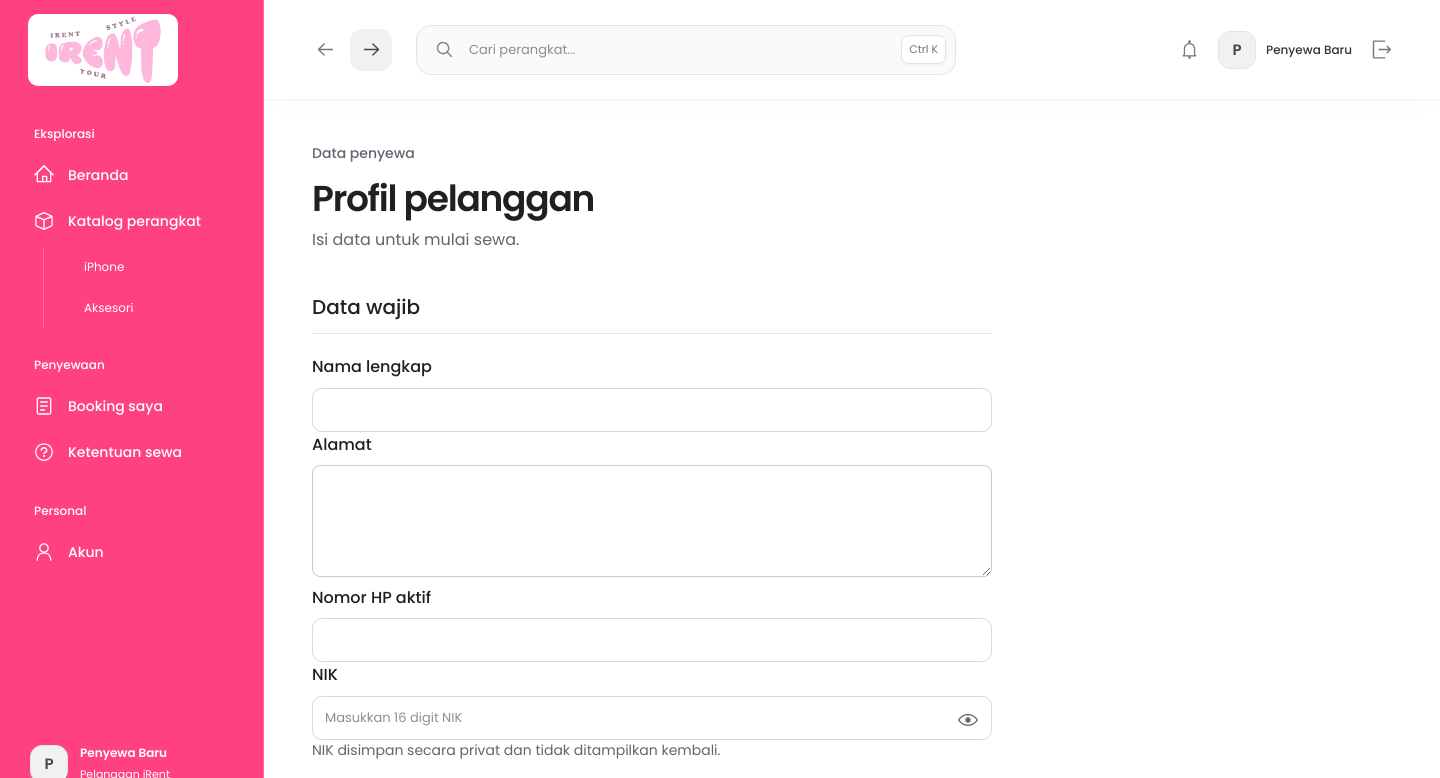
Scenario: completes the profile without exposing the stored NIK after saving
Type "Penyewa Lengkap" into the field labelled "Nama lengkap" at (652, 410), box [312,388,992,432]
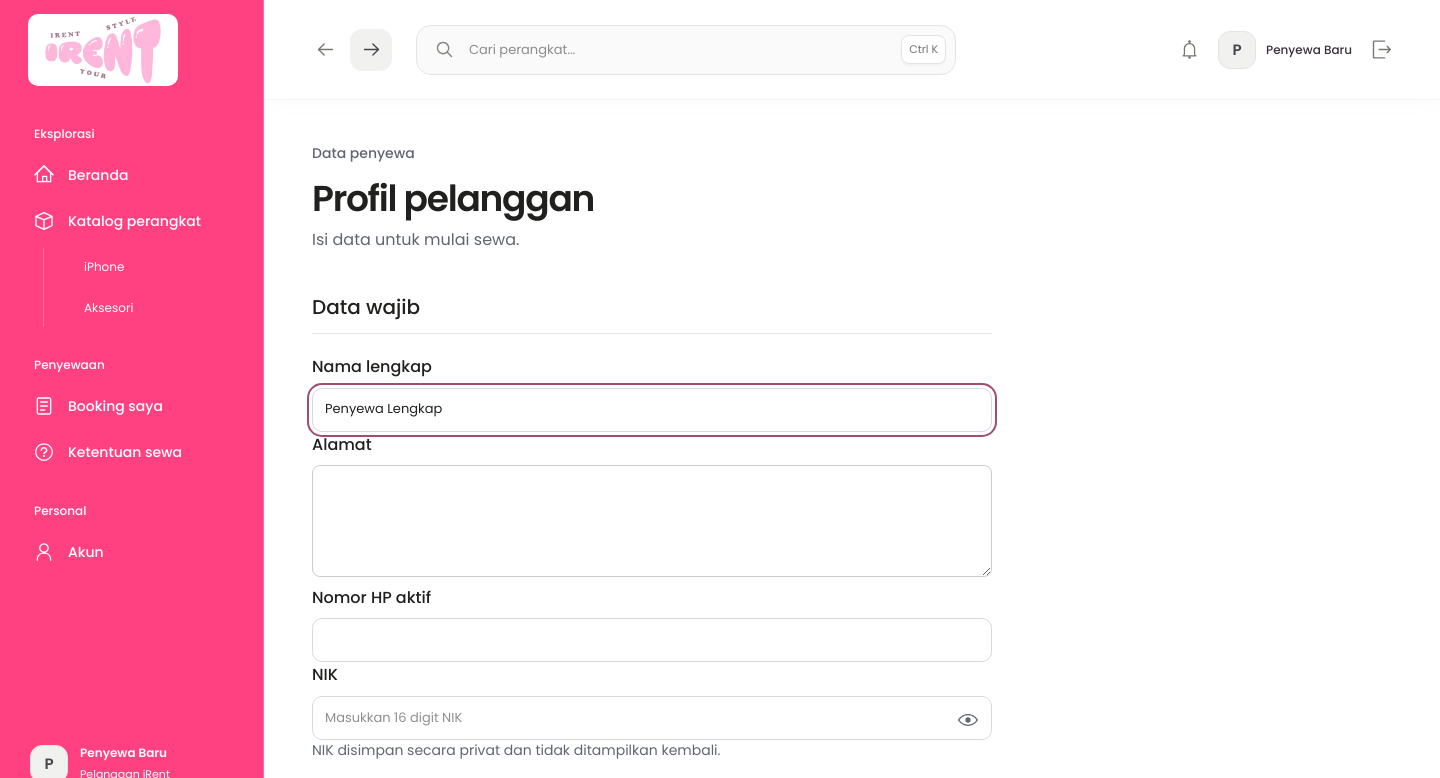
Type "Alamat uji Semarang" into the text box labelled "Alamat" at (652, 521), box [312,465,992,577]
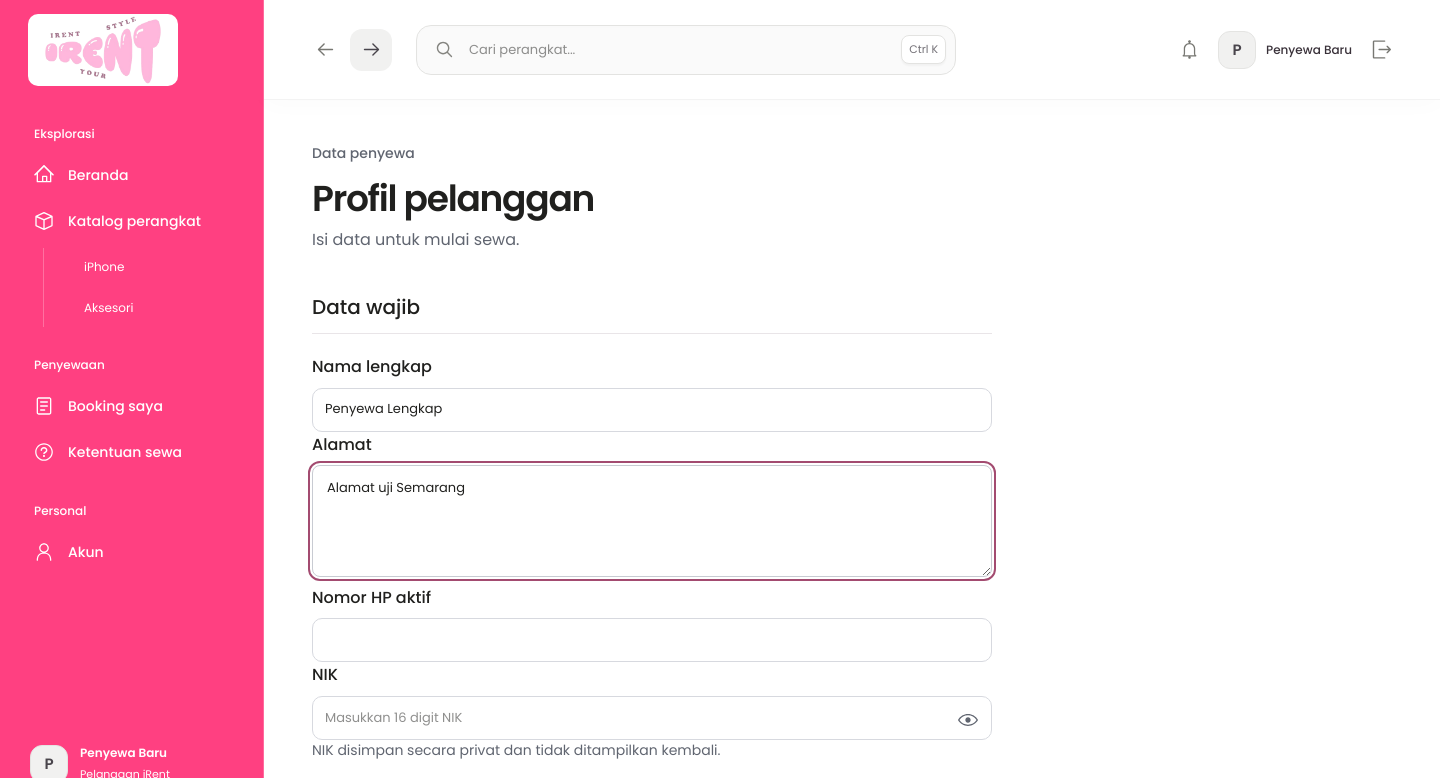
Type "081234567890" into the field labelled "Nomor HP aktif" at (652, 640), box [312,618,992,662]
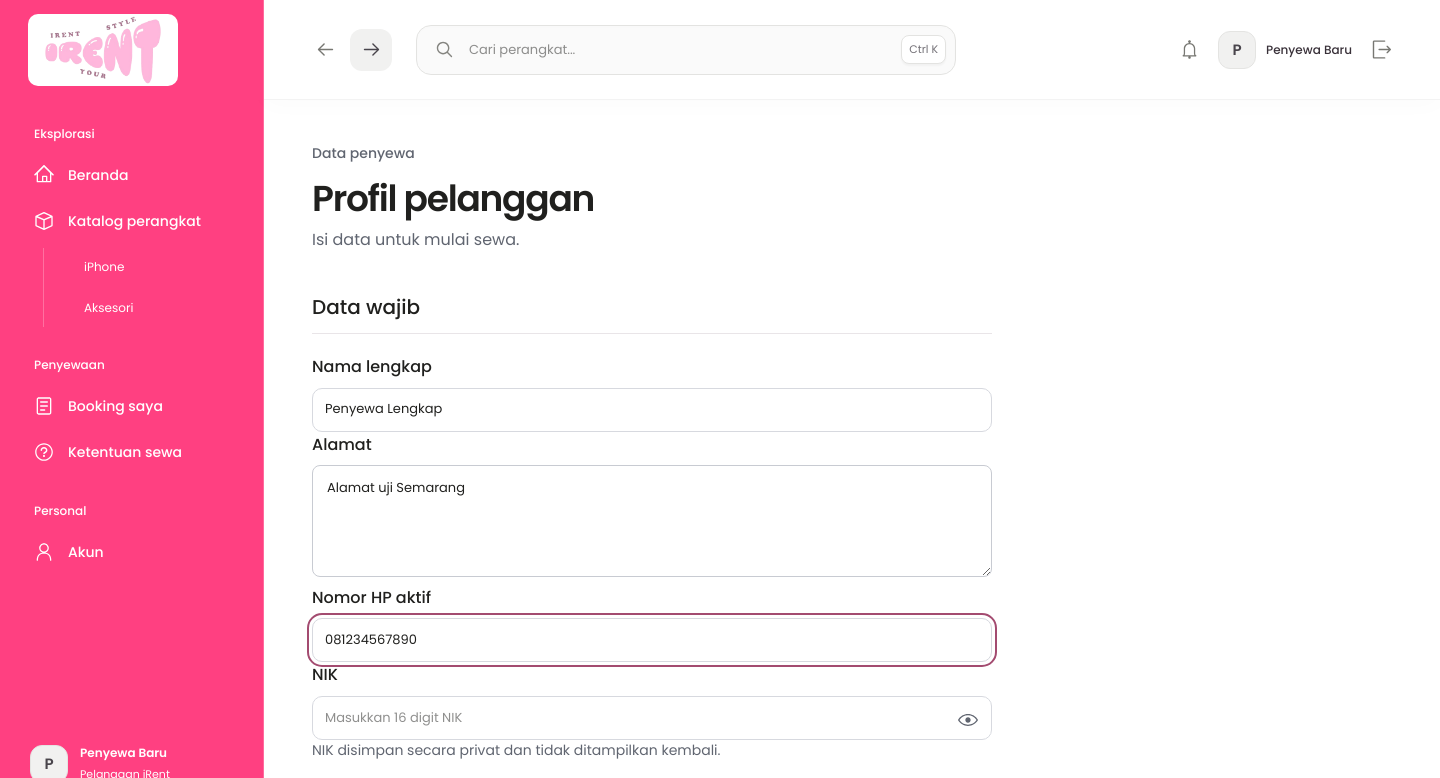
Type "0000000000000001" into the password field labelled "NIK" at (652, 718), box [312,696,992,740]
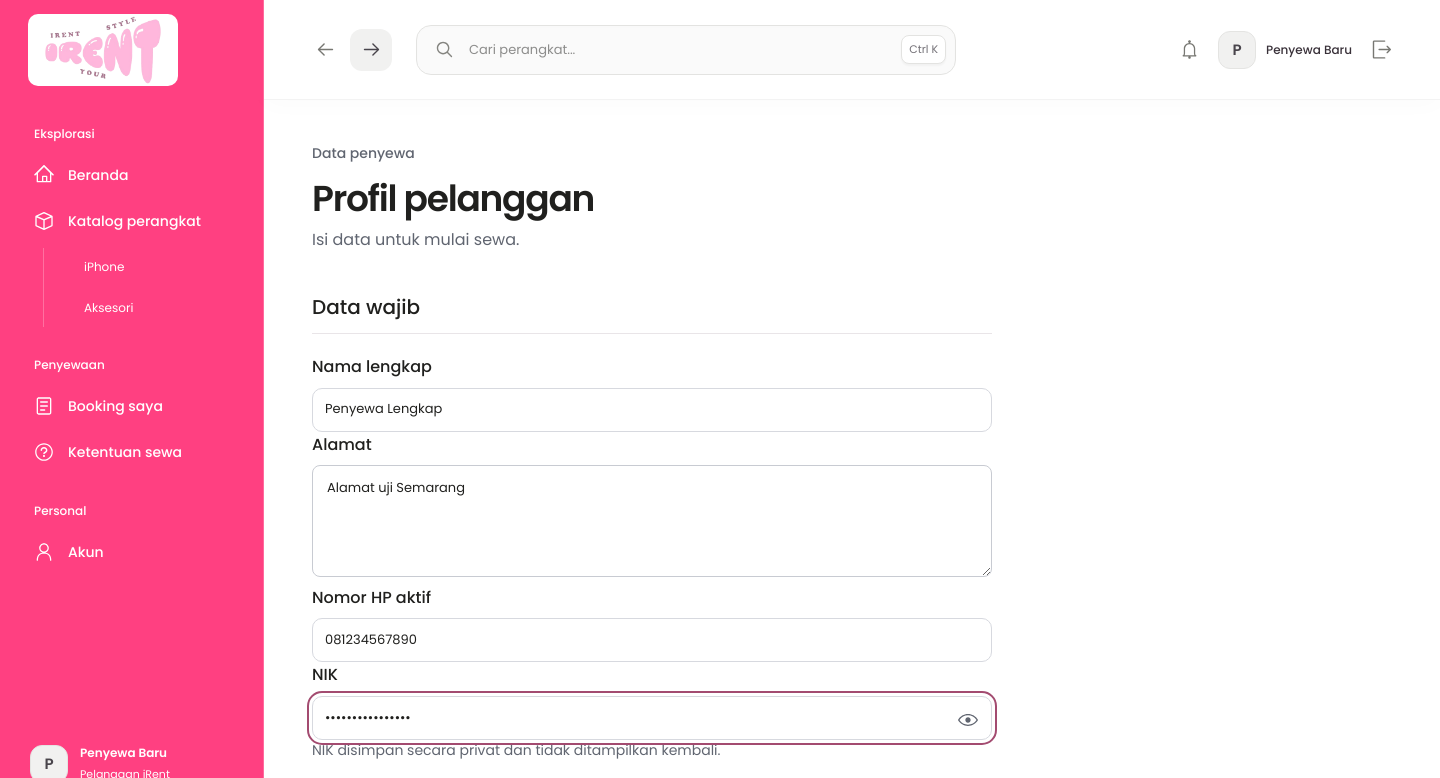
Click the button named "Tampilkan NIK" at (968, 720), box [946,698,990,742]
(page scrolled)
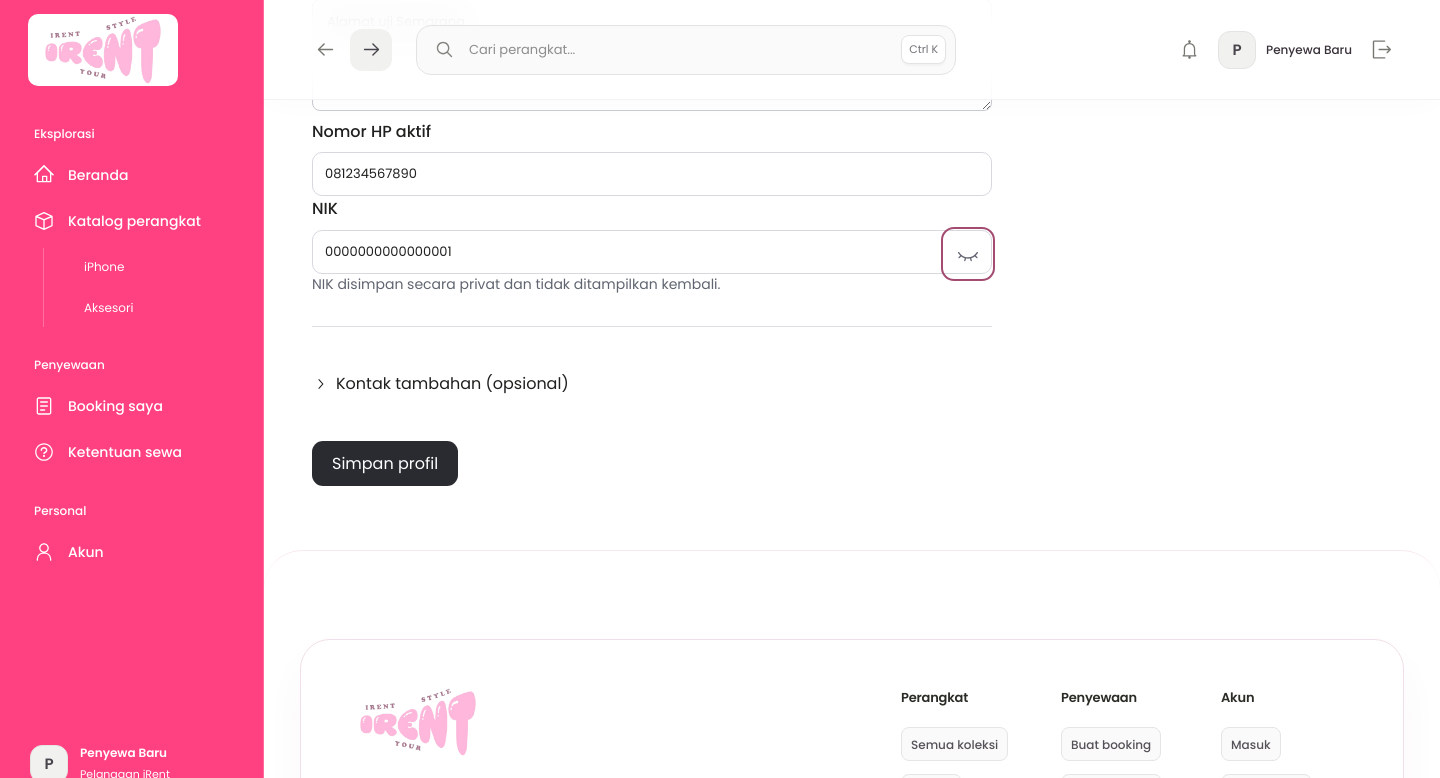
Check: the field labelled "NIK" shows its text, box [312,230,992,274]
Click the button "Simpan profil" at (385, 463), box [312,440,458,486]
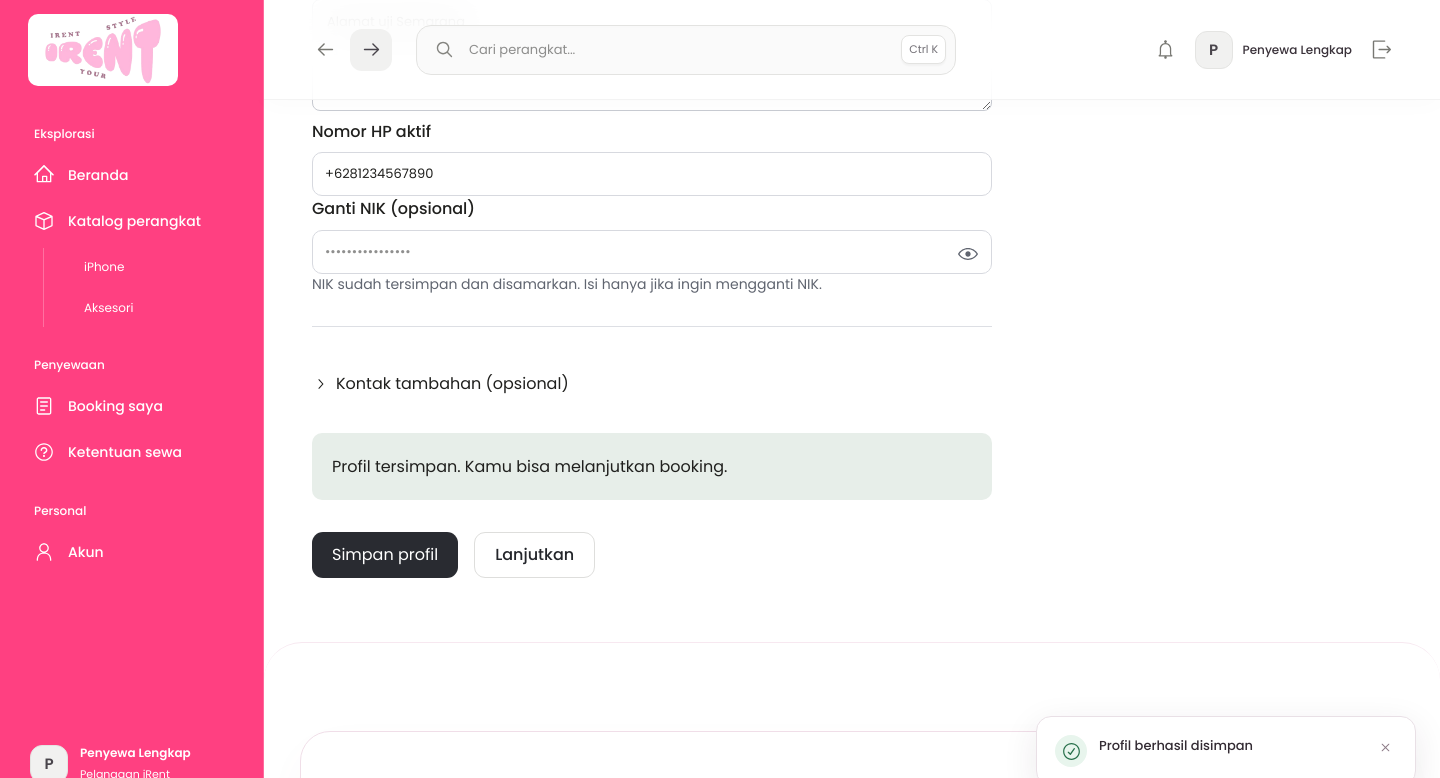
Check: the field showing "0000000000000001" is not shown
Check: the text "Profil tersimpan. Kamu bisa melanjutkan booking." is shown, box [312,432,992,500]
